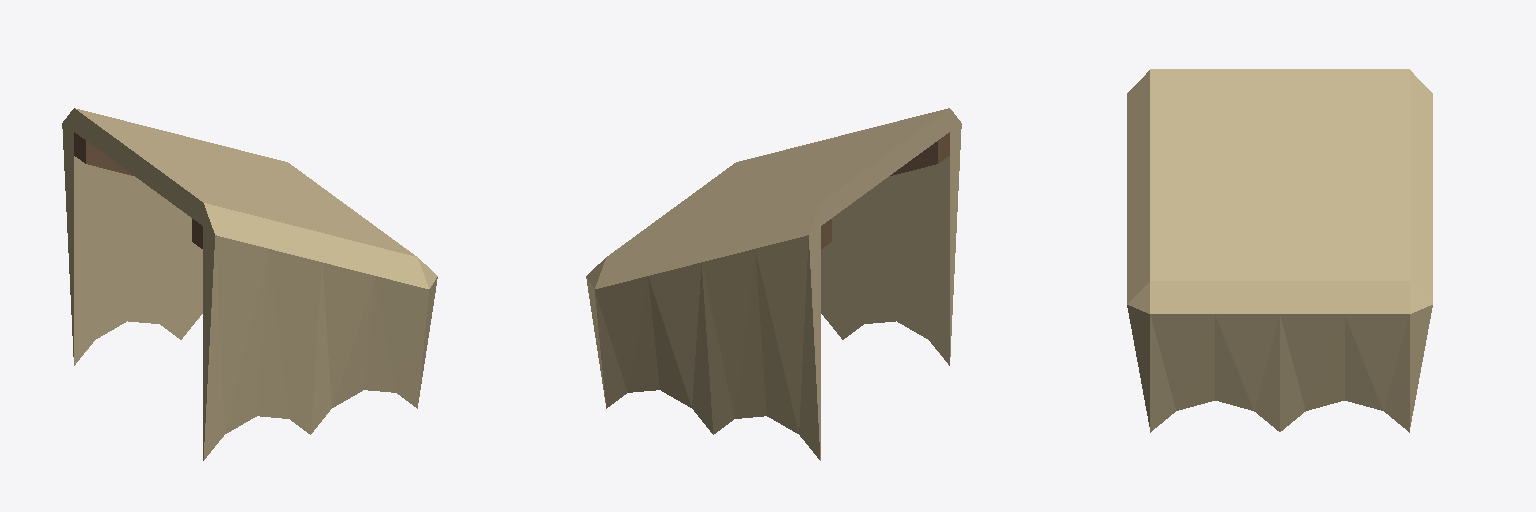
The model's file is Canopy_Ramp_Full.obj.
3 views of the same model, side by side, from view 1: azimuth 30°, elevation 25°; view 2: azimuth 150°, elevation 25°; view 3: azimuth 270°, elevation 25° (orthographic).
Visible parts, largest first — view 1: object2, object1; view 2: object2, object1; view 3: object2.
Boxes of the visible parts, box(x1,y1,x2,y2) form: object2: box(62, 108, 437, 460); object1: box(74, 132, 202, 248); object2: box(586, 108, 961, 460); object1: box(821, 132, 949, 248); object2: box(1127, 69, 1432, 432).
Size of the model in its own units: 1.15 by 1.21 by 1.3.